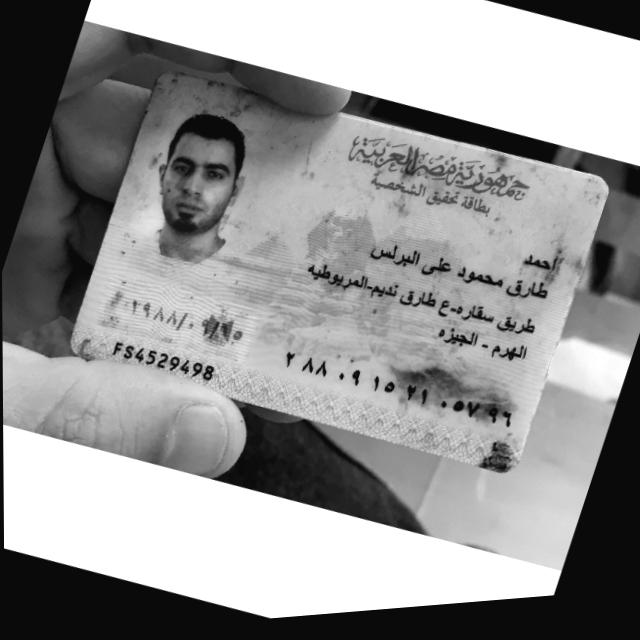id_card: (64, 27, 615, 508)
